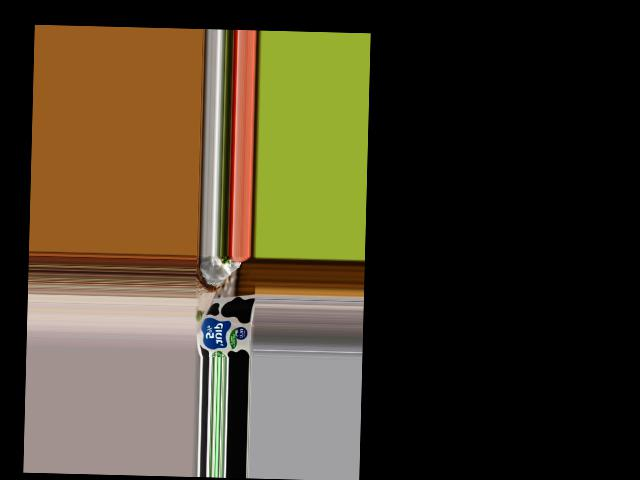cotage: (197, 296, 254, 358)
